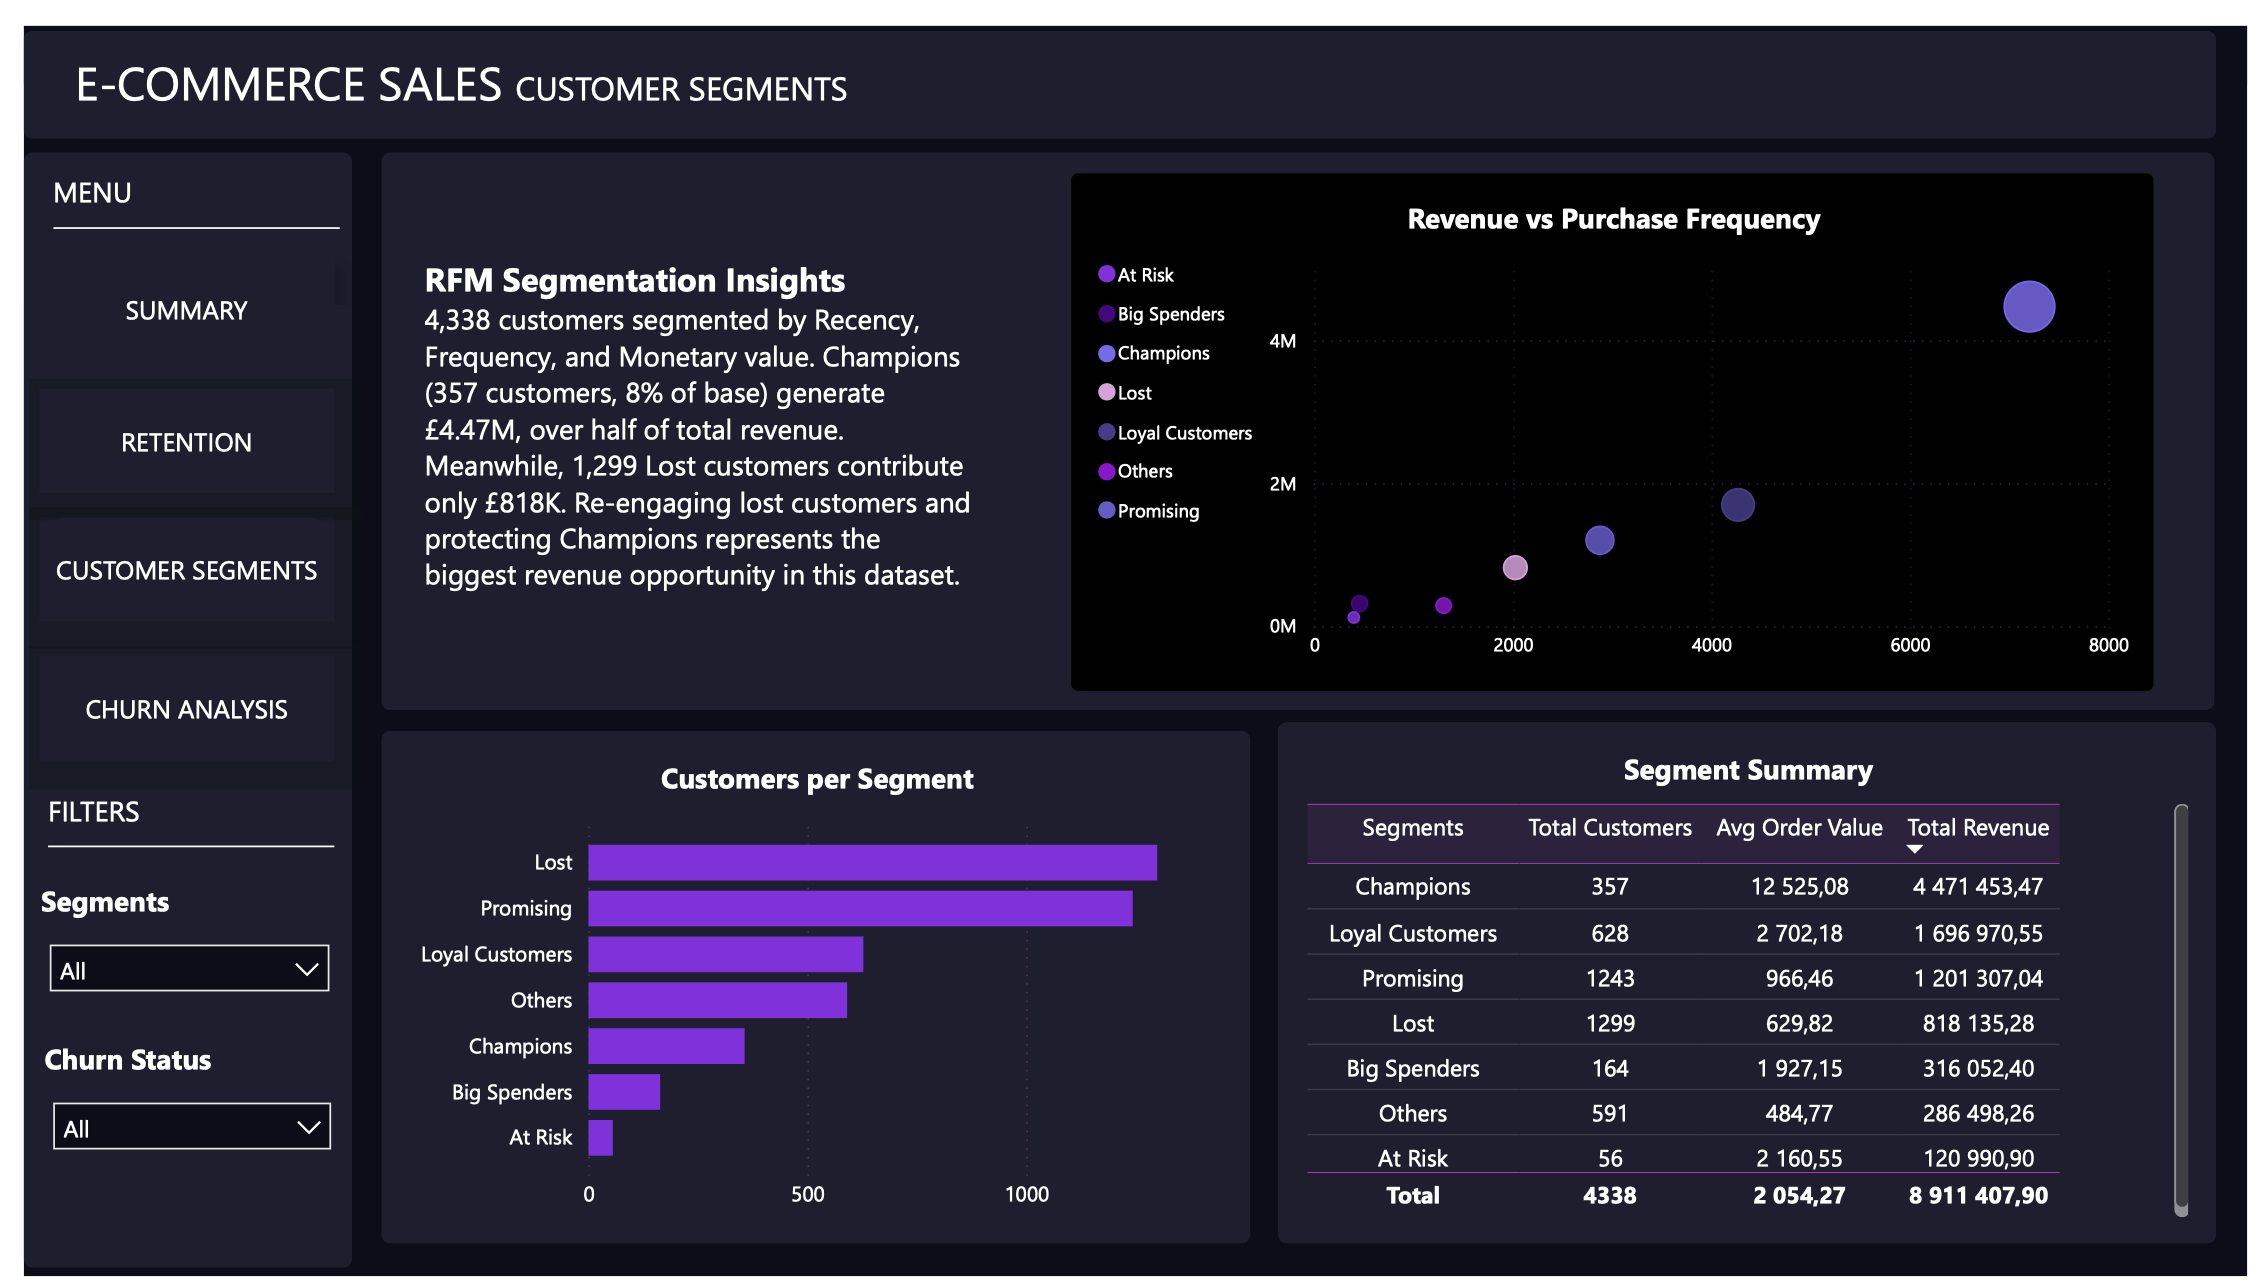

What the dashboard file says about the page in this screenshot:
{"tool":"powerbi","page":{"name":"RFM & SEGMENTS","canvas":[1280,720],"ordinal":2},"visuals":[{"type":"shape","box":[205.9,72.7,1055.4,321],"z":0},{"type":"shape","box":[0,3.2,1261.6,61.6],"z":1000},{"type":"shape","box":[0,72.7,189.3,642],"z":2000},{"type":"textbox","title":"MENU","box":[16.7,84.8,165,71.2],"z":3000},{"type":"textbox","box":[30.3,13.6,646.6,51.5],"z":4000},{"type":"actionButton","title":"CUSTOMER SEGMENTS","box":[9.1,133,169.6,60.6],"z":5000},{"type":"actionButton","title":"CUSTOMER SEGMENTS","box":[9.1,208.7,169.6,60.6],"z":6000},{"type":"actionButton","title":"CUSTOMER SEGMENTS","box":[9.1,282.9,169.6,60.6],"z":7000},{"type":"actionButton","title":"CUSTOMER SEGMENTS","box":[9.1,363.1,169.6,60.6],"z":8000},{"type":"slicer","title":"Segments","fields":{"Values":["RFM_segment.customer_segment"]},"box":[9.1,492.1,172.6,77.2],"z":9000},{"type":"textbox","title":"FILTERS","box":[13.6,440.6,165,66.6],"z":10000},{"type":"slicer","title":"Churn Status","fields":{"Values":["customer_churn_analysis.churn_status"]},"box":[10.6,583,172.6,77.2],"z":11000},{"type":"clusteredBarChart","title":"Customers per Segment","fields":{"Category":["RFM_segment.customer_segment"],"Y":["RFM_segment.Total Customers"]},"box":[205.8,406.4,500.4,294.6],"z":12000},{"type":"scatterChart","title":"Revenue vs Purchase Frequency","fields":{"X":["Sum(RFM_segment.frequency)"],"Y":["Sum(RFM_segment.monetary)"],"Series":["RFM_segment.customer_segment"],"Size":["Sum(RFM_segment.monetary)"]},"box":[601.6,83.7,625.3,300],"z":13000},{"type":"tableEx","title":"Segment Summary","fields":{"Values":["RFM_segment.customer_segment","RFM_segment.Total Customers","Avg(RFM_segment.monetary)","RFM_segment.Total Revenue"]},"box":[722.2,401,539.4,299.9],"z":14000},{"type":"textbox","box":[230.5,132.6,315.8,210],"z":15000}]}

Visuals, with their boxes in screenshot pixels (x1, y1, x2, y2), scaled from the page's 1280x720 canvas onto the 2262x1288 screenshot:
shape: Rect(364, 130, 2229, 704)
shape: Rect(0, 6, 2229, 116)
shape: Rect(0, 130, 335, 1279)
"MENU" textbox: Rect(30, 152, 321, 279)
textbox: Rect(54, 24, 1196, 116)
"CUSTOMER SEGMENTS" actionButton: Rect(16, 238, 316, 346)
"CUSTOMER SEGMENTS" actionButton: Rect(16, 373, 316, 482)
"CUSTOMER SEGMENTS" actionButton: Rect(16, 506, 316, 614)
"CUSTOMER SEGMENTS" actionButton: Rect(16, 650, 316, 758)
"Segments" slicer: Rect(16, 880, 321, 1018)
"FILTERS" textbox: Rect(24, 788, 316, 907)
"Churn Status" slicer: Rect(19, 1043, 324, 1181)
"Customers per Segment" clusteredBarChart: Rect(364, 727, 1248, 1254)
"Revenue vs Purchase Frequency" scatterChart: Rect(1063, 150, 2168, 686)
"Segment Summary" tableEx: Rect(1276, 717, 2229, 1254)
textbox: Rect(407, 237, 965, 613)
